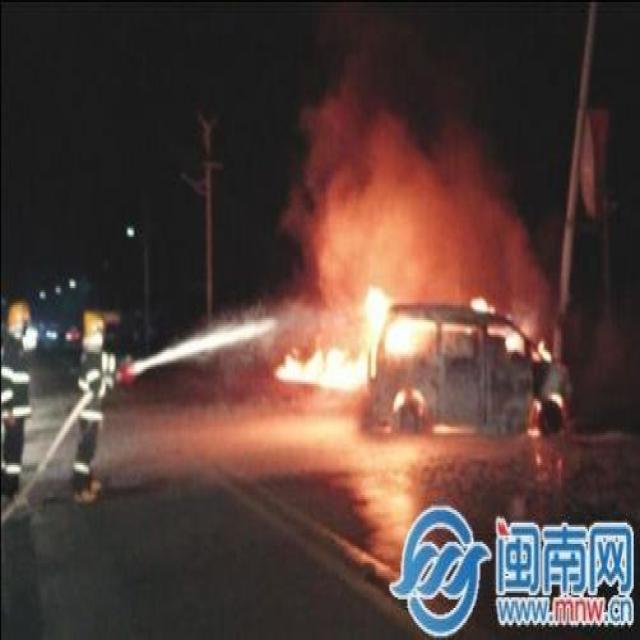fire: (277, 280, 562, 452)
smoke: (282, 94, 548, 311)
